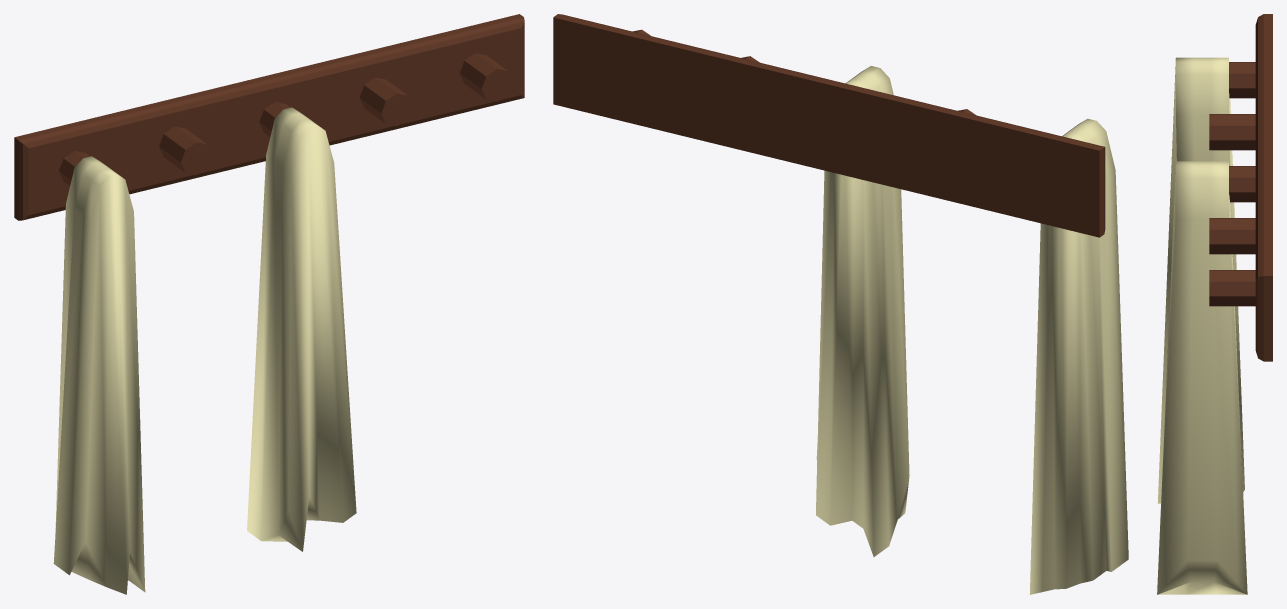
File: towelRack.fbx
3 views of the same model, side by side, from view 1: azimuth 30°, elevation 25°; view 2: azimuth 150°, elevation 25°; view 3: azimuth 270°, elevation 25° (orthographic). The views are drawn at different scales.
Parts seen in each view (by area): view 1: Towel Rack; view 2: Towel Rack; view 3: Towel Rack.
Part boxes in pixels (left/top/right/bottom): Towel Rack: left=14, top=14, right=524, bottom=594; Towel Rack: left=553, top=14, right=1128, bottom=594; Towel Rack: left=1157, top=14, right=1272, bottom=594.
Bounding box in the file's own units: 93.15 × 17.4 × 78.73.
